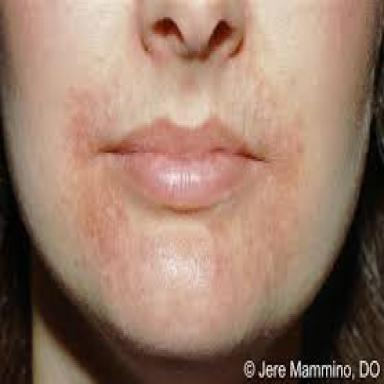burn: (51, 3, 309, 332)
